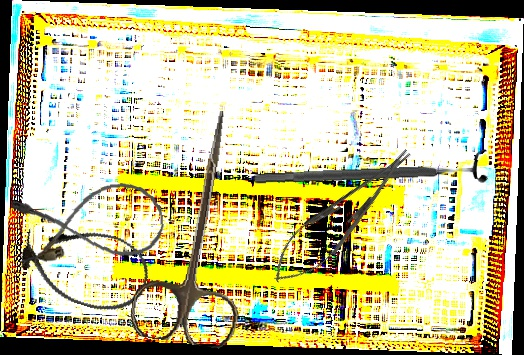Cannula: (12, 212, 157, 321), (10, 179, 167, 268)
Fixation Ring: (252, 147, 489, 197)
Iris Scissors: (127, 102, 270, 351)
Needle Holder: (260, 136, 425, 297)
